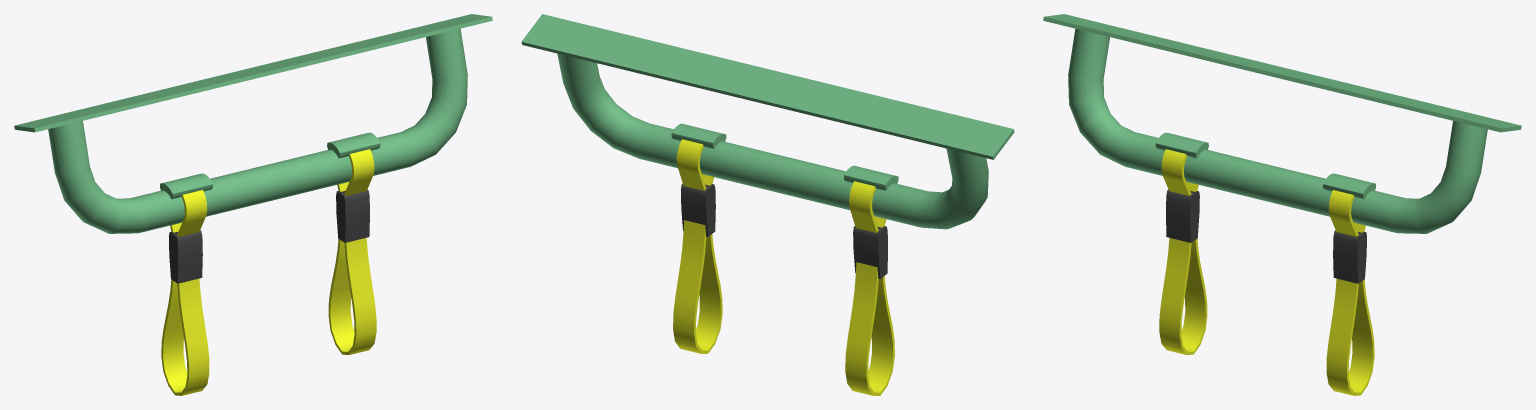
Rendered from Pole_Handle.FBX.
The picture shows the model from 3 angles, left to right: view 1: azimuth 30°, elevation 25°; view 2: azimuth 150°, elevation 25°; view 3: azimuth 330°, elevation 25°; orthographic projection. The views are drawn at different scales.
Visible parts, largest first — view 1: Pole_HandleBar, Handle_Loop_Lower_L, Handle_Loop_Lower_R, Handle_Connector_L, Handle_Connector_R, Pole_Handle_Loop_L, Pole_Handle_Loop_R; view 2: Pole_HandleBar, Handle_Loop_Lower_R, Handle_Loop_Lower_L, Handle_Connector_R, Handle_Connector_L, Pole_Handle_Loop_L, Pole_Handle_Loop_R; view 3: Pole_HandleBar, Handle_Loop_Lower_R, Handle_Loop_Lower_L, Handle_Connector_R, Handle_Connector_L, Pole_Handle_Loop_R, Pole_Handle_Loop_L.
Part boxes in pixels (<box>): Pole_HandleBar: <box>14,14,492,233</box>; Handle_Loop_Lower_L: <box>161,278,209,395</box>; Handle_Loop_Lower_R: <box>328,238,376,354</box>; Handle_Connector_L: <box>169,230,202,283</box>; Handle_Connector_R: <box>336,189,369,242</box>; Pole_Handle_Loop_L: <box>170,190,207,236</box>; Pole_Handle_Loop_R: <box>337,149,374,195</box>; Pole_HandleBar: <box>521,14,1014,229</box>; Handle_Loop_Lower_R: <box>673,220,722,353</box>; Handle_Loop_Lower_L: <box>845,262,894,395</box>; Handle_Connector_R: <box>681,184,715,236</box>; Handle_Connector_L: <box>853,226,887,278</box>; Pole_Handle_Loop_L: <box>849,181,886,232</box>; Pole_Handle_Loop_R: <box>676,139,714,190</box>; Pole_HandleBar: <box>1043,14,1521,233</box>; Handle_Loop_Lower_R: <box>1326,278,1374,395</box>; Handle_Loop_Lower_L: <box>1159,238,1207,354</box>; Handle_Connector_R: <box>1333,230,1366,283</box>; Handle_Connector_L: <box>1166,189,1199,242</box>; Pole_Handle_Loop_R: <box>1328,190,1365,236</box>; Pole_Handle_Loop_L: <box>1161,149,1198,195</box>.
Size of the model in its own units: 0.5566 by 0.3438 by 0.084.
